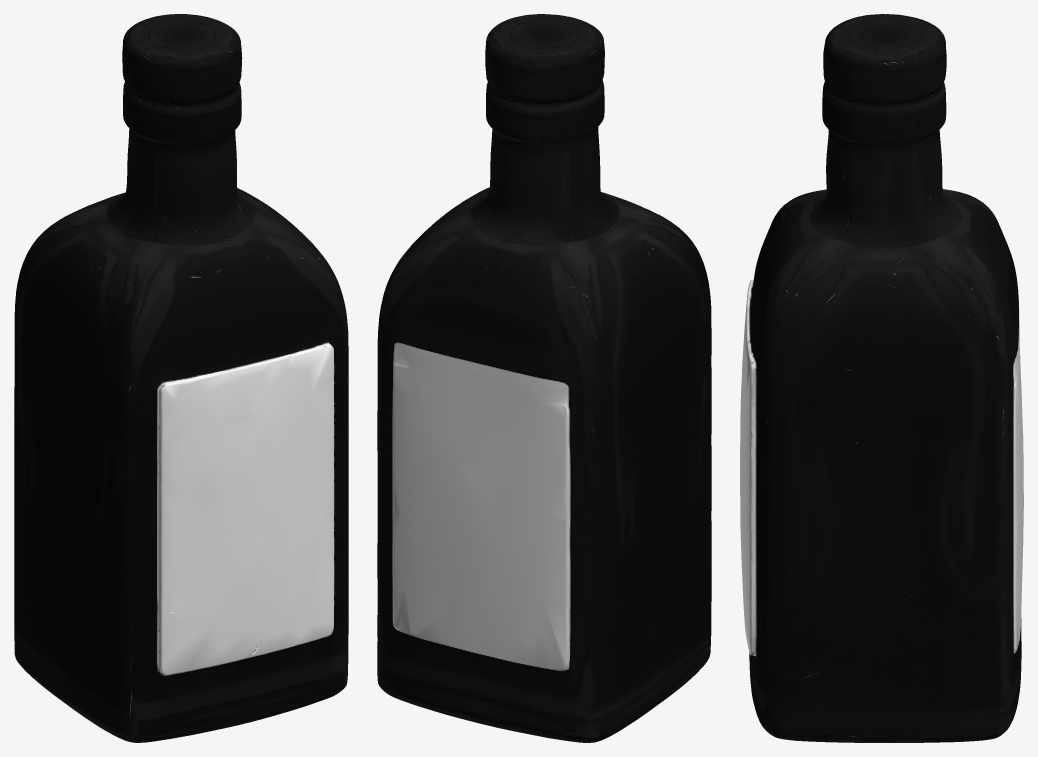
Rendered from spirits-a.glb.
The picture shows the model from 3 angles, left to right: view 1: azimuth 30°, elevation 25°; view 2: azimuth 150°, elevation 25°; view 3: azimuth 270°, elevation 25°; orthographic projection.
Visible parts, largest first — view 1: Mesh_0; view 2: Mesh_0; view 3: Mesh_0.
Part boxes in pixels (x1,y1,x2,y2): Mesh_0: (14, 14, 348, 742); Mesh_0: (377, 14, 711, 742); Mesh_0: (740, 14, 1023, 742).
Size of the model in its own units: 24347 by 62634 by 24607.
1 material, 1 textured.
